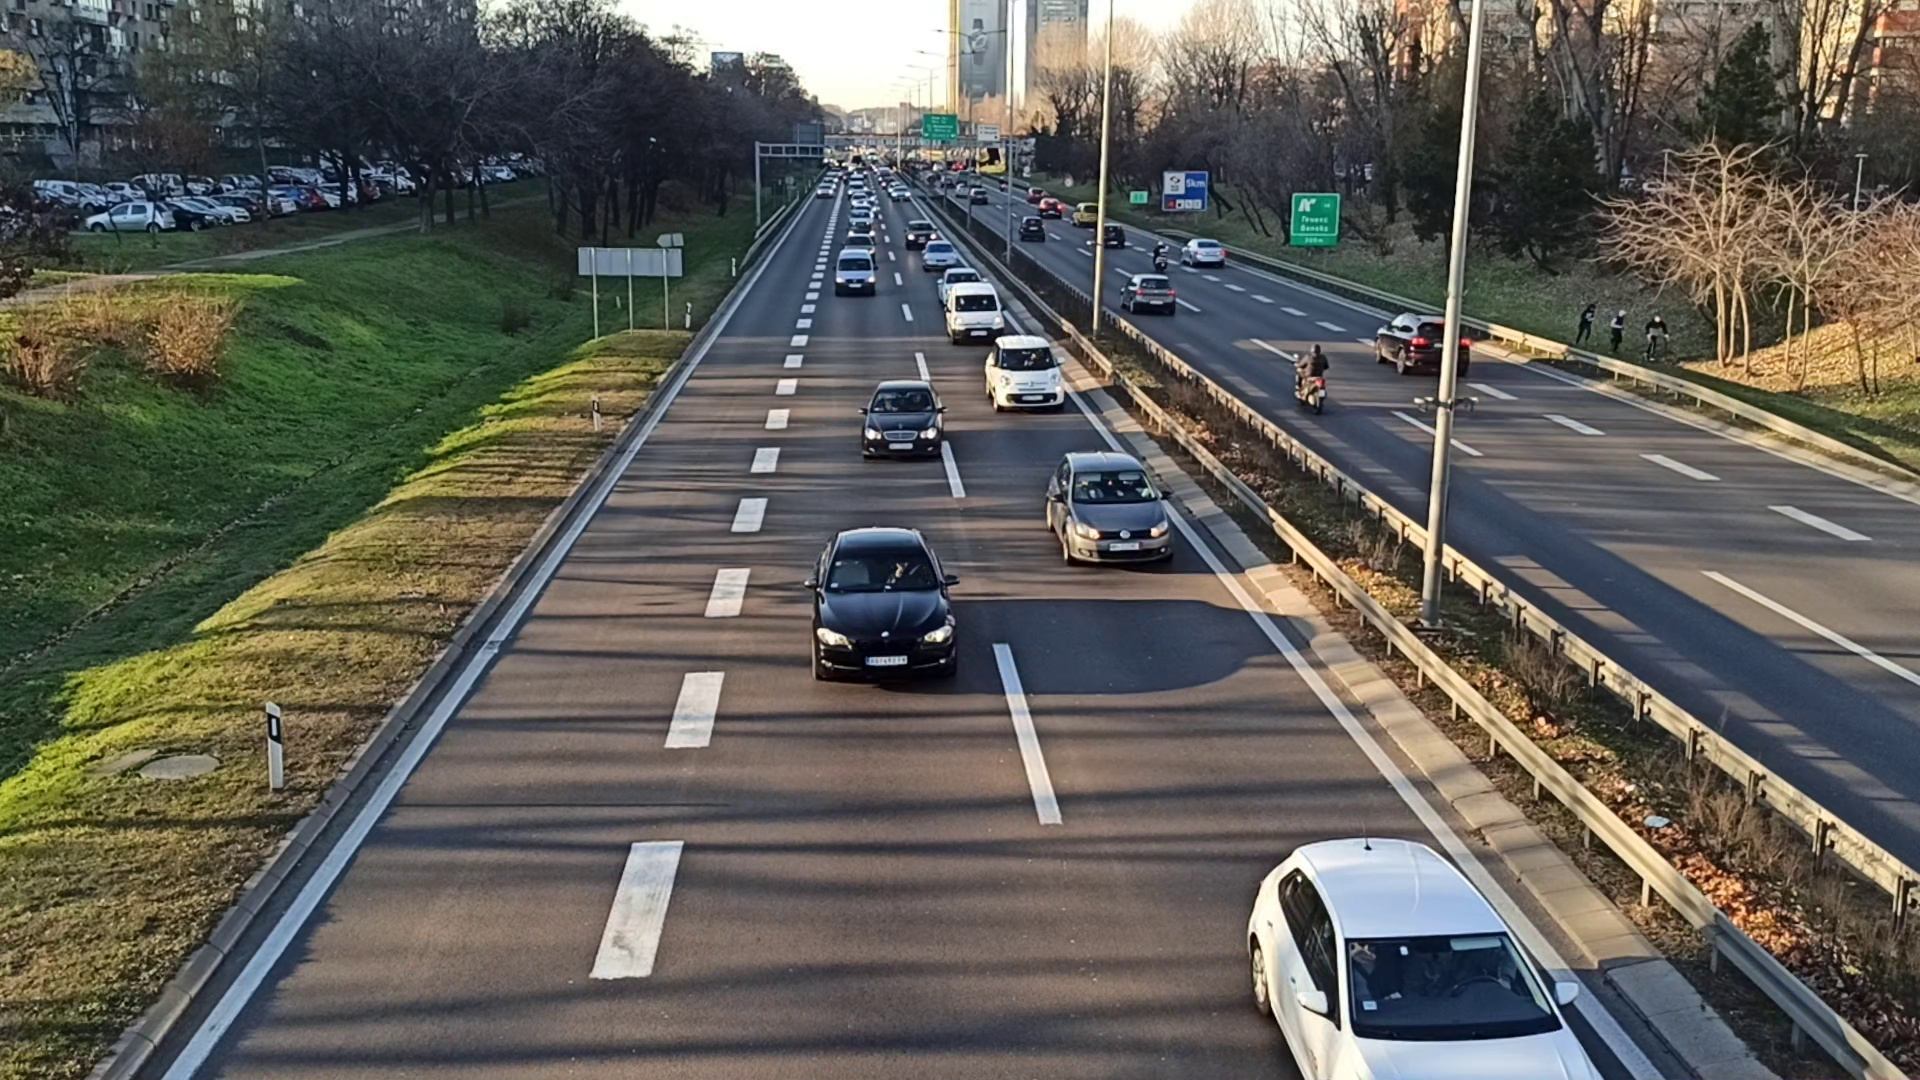car: (1249, 833, 1585, 1080), (815, 524, 955, 687), (1044, 448, 1174, 568), (1371, 309, 1469, 381), (862, 378, 945, 462), (982, 336, 1062, 417), (1124, 270, 1176, 318), (920, 240, 957, 272), (905, 220, 934, 247)
motorcycle: (1290, 342, 1331, 409), (1154, 237, 1166, 266)
van: (947, 284, 1002, 344), (836, 251, 877, 294)
